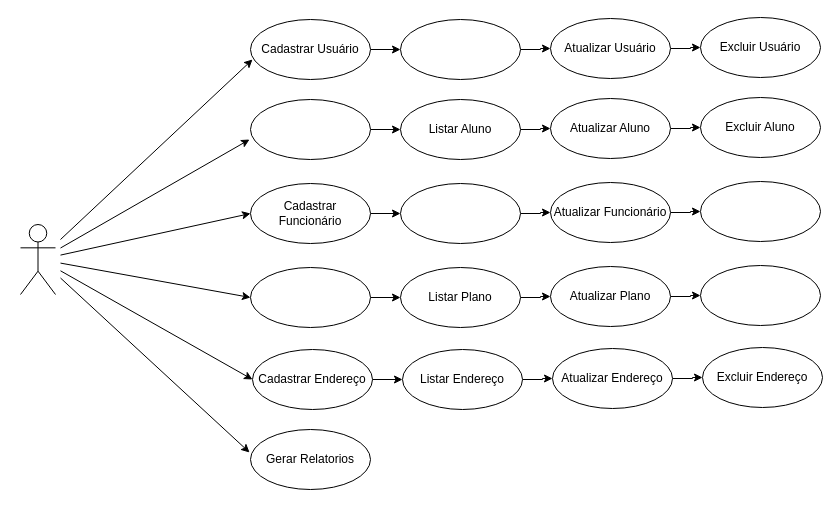
This 840x507 diagram has some shape labels left out. Each missing label, with the box of its shape:
Cadastrar Aluno: (250, 98, 370, 160)
Cadastrar Plano: (250, 266, 370, 328)
Excluir Funcionário: (700, 180, 820, 242)
Excluir Plano: (700, 264, 820, 326)
Listar Funcionário: (400, 182, 520, 244)
Listar Usuário: (400, 18, 520, 80)
Usuário: (20, 224, 56, 294)
